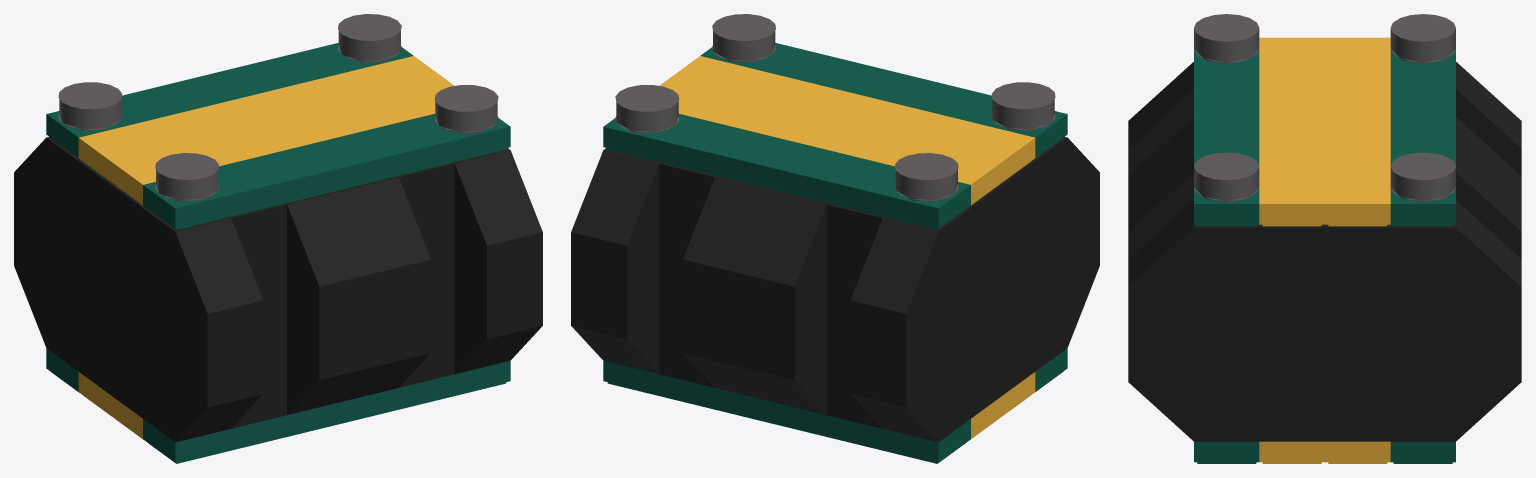
Rendered from Lego_CargoContainerA.fbx.
3 views of the same model, side by side, from view 1: azimuth 30°, elevation 25°; view 2: azimuth 150°, elevation 25°; view 3: azimuth 270°, elevation 25° (orthographic).
Visible parts, largest first — view 1: 00002_3040B.dat; view 2: 00002_3040B.dat; view 3: 00002_3040B.dat.
Part boxes in pixels (x1=…): 00002_3040B.dat: x1=14, y1=14, x2=542, y2=463; 00002_3040B.dat: x1=571, y1=14, x2=1099, y2=463; 00002_3040B.dat: x1=1128, y1=14, x2=1521, y2=463.
Bounding box in the file's own units: 1.2 × 0.96 × 1.2.
